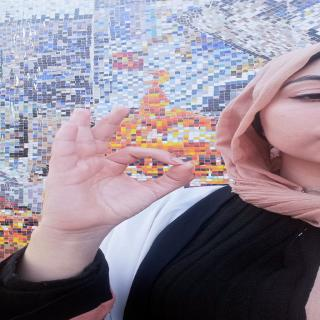Space: (34, 108, 195, 206)
